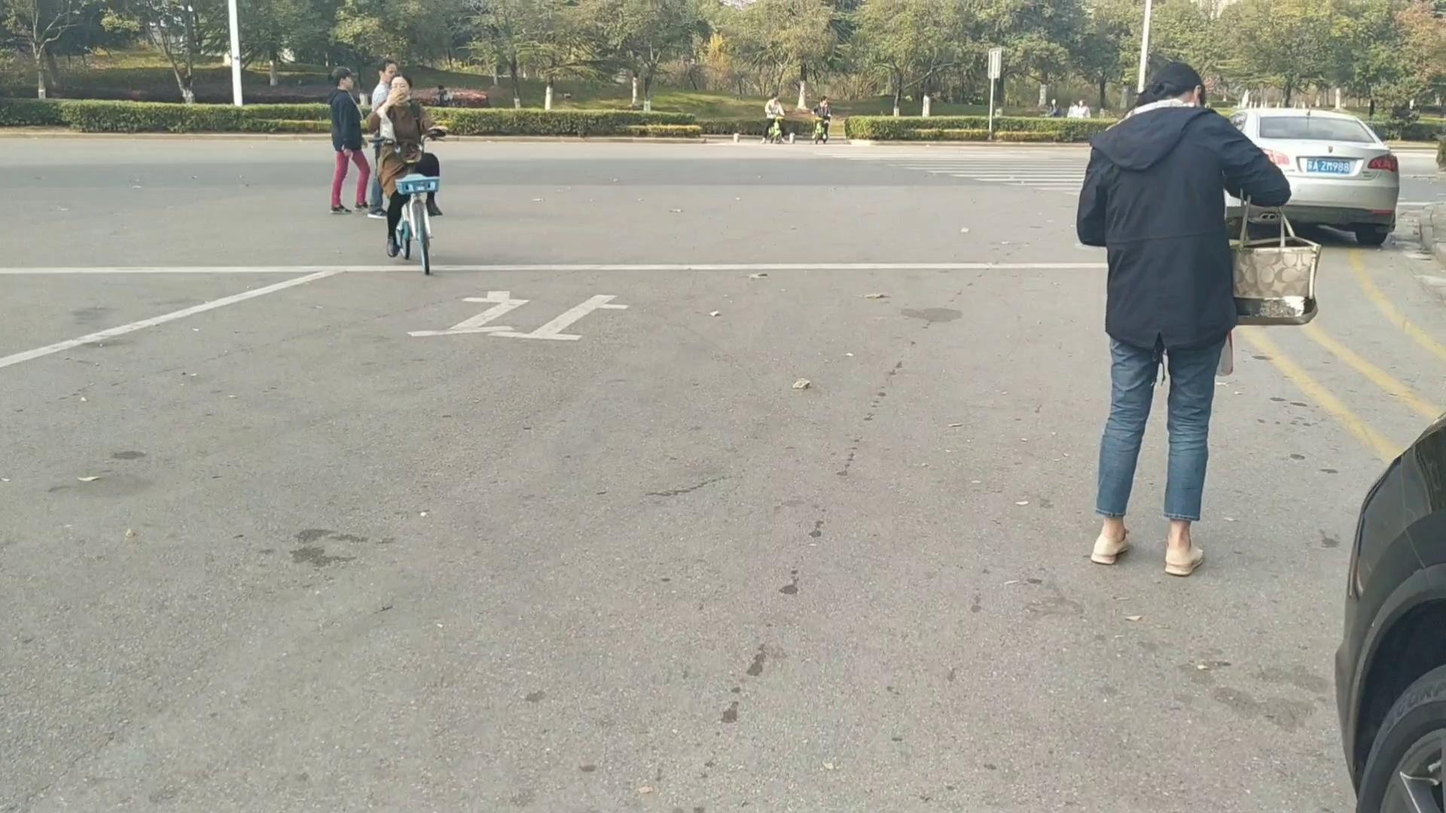car: (1331, 410, 1446, 803), (1229, 107, 1401, 245), (1396, 88, 1446, 144)
